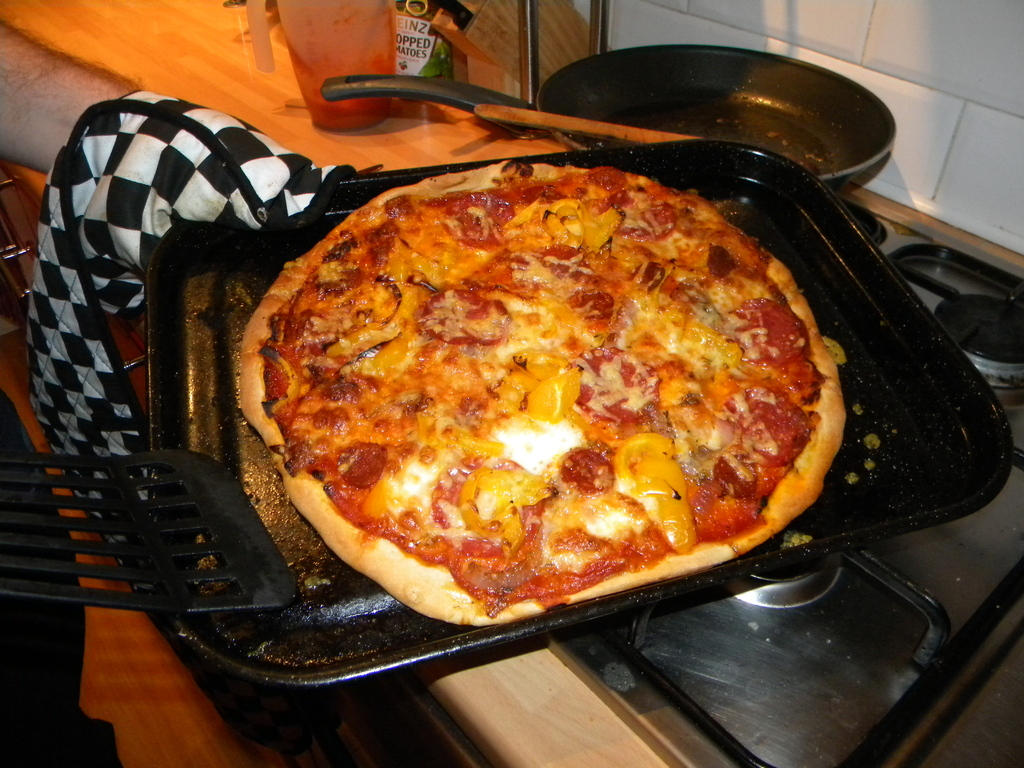Pizza: (209, 149, 849, 639)
